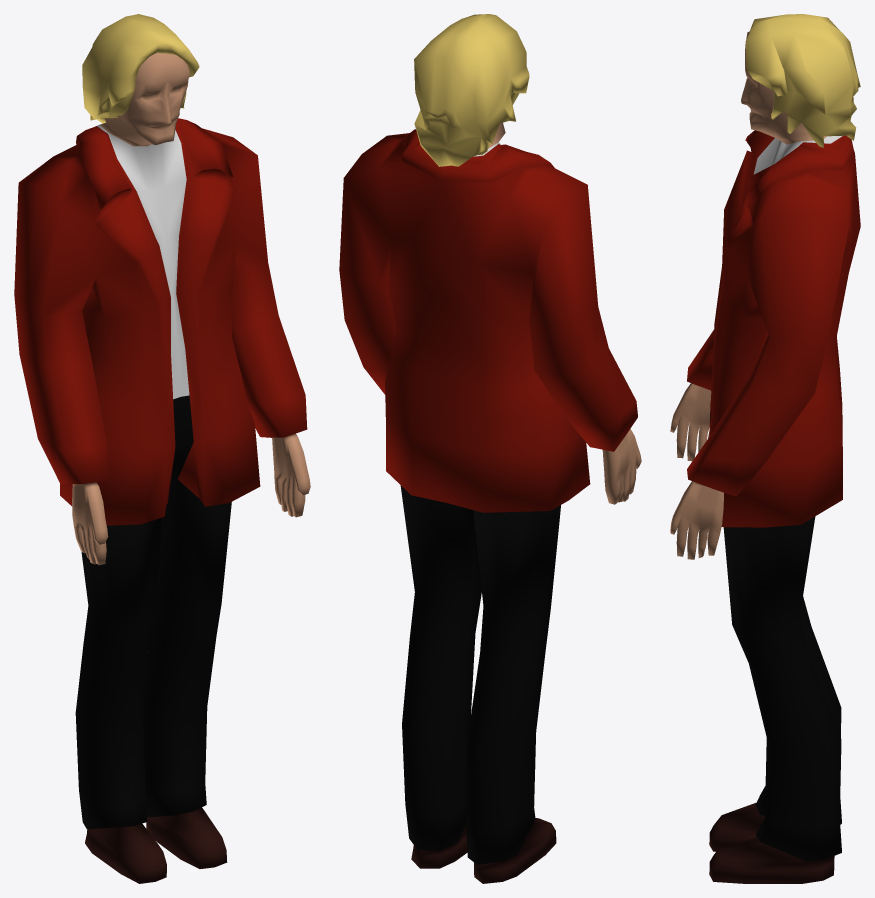
Rendered from man.fbx.
3 renders of one model, left to right at view 1: azimuth 30°, elevation 25°; view 2: azimuth 150°, elevation 25°; view 3: azimuth 270°, elevation 25°, orthographic. The views are drawn at different scales.
Visible parts, largest first — view 1: Cube.002_Cube.001; view 2: Cube.002_Cube.001; view 3: Cube.002_Cube.001.
Boxes of the visible parts, x1,y1,x2,y2 form: Cube.002_Cube.001: (14,14,310,883); Cube.002_Cube.001: (339,14,641,883); Cube.002_Cube.001: (670,14,860,883).
Size of what is drawn, in the model's own units: 142 by 464 by 94.88.
